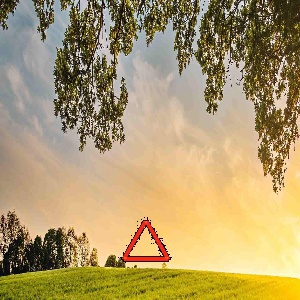triangle: (119, 214, 172, 266)
